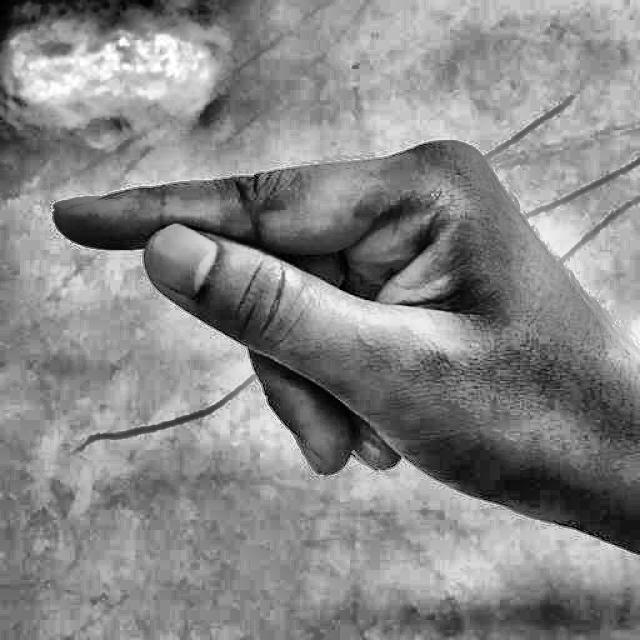Tha: (26, 121, 640, 565)
